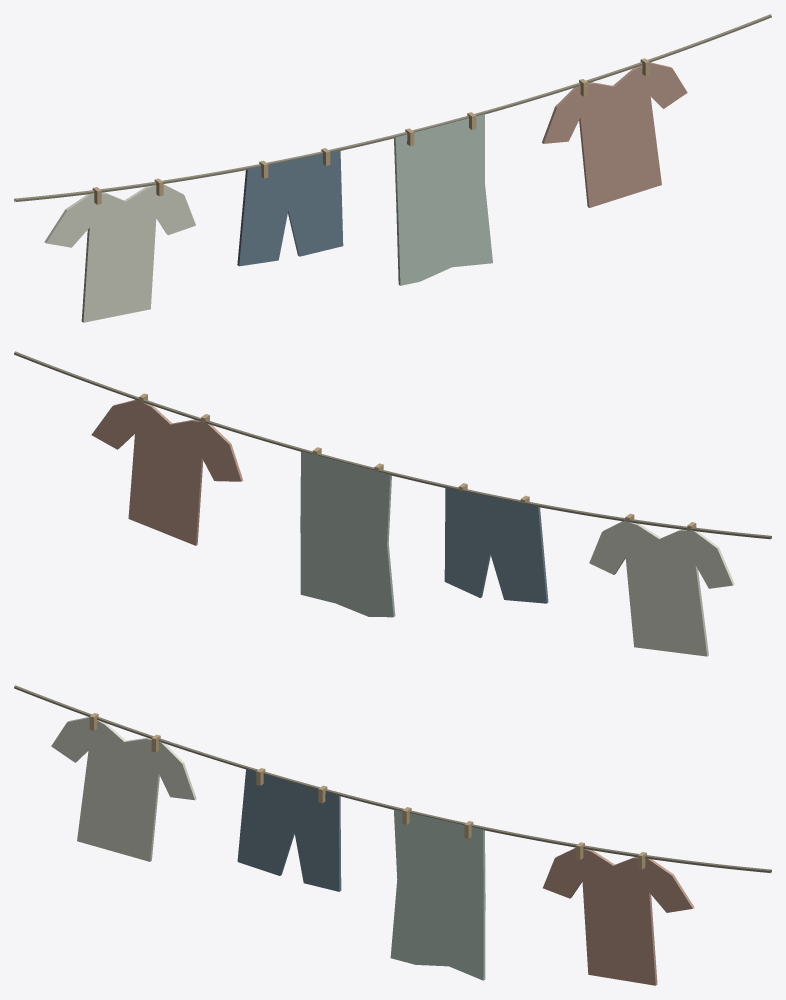
The model's file is courtyard-line.glb.
3 renders of one model, top to bottom at view 1: azimuth 30°, elevation 25°; view 2: azimuth 150°, elevation 25°; view 3: azimuth 330°, elevation 25°, orthographic.
Visible parts, largest first — view 1: Cloth_Towel_2, Cloth_Tee_3, Cloth_Tee_0, Cloth_Shorts_1, Fixed clothesline; view 2: Cloth_Towel_2, Cloth_Tee_0, Cloth_Tee_3, Cloth_Shorts_1, Fixed clothesline; view 3: Cloth_Towel_2, Cloth_Tee_0, Cloth_Tee_3, Cloth_Shorts_1, Fixed clothesline.
Boxes of the visible parts, <box> form: Cloth_Towel_2: <box>394,114,492,285</box>; Cloth_Tee_3: <box>542,62,687,207</box>; Cloth_Tee_0: <box>44,184,195,322</box>; Cloth_Shorts_1: <box>237,150,343,266</box>; Fixed clothesline: <box>14,14,771,201</box>; Cloth_Towel_2: <box>300,451,395,617</box>; Cloth_Tee_0: <box>589,520,734,656</box>; Cloth_Tee_3: <box>91,399,243,545</box>; Cloth_Shorts_1: <box>444,487,548,603</box>; Fixed clothesline: <box>14,351,771,539</box>; Cloth_Towel_2: <box>390,809,485,980</box>; Cloth_Tee_0: <box>51,717,196,861</box>; Cloth_Tee_3: <box>543,847,694,985</box>; Cloth_Shorts_1: <box>237,769,341,891</box>; Fixed clothesline: <box>14,685,771,872</box>.
Bounding box in the file's own units: 4.4 × 0.9999 × 0.0962.
